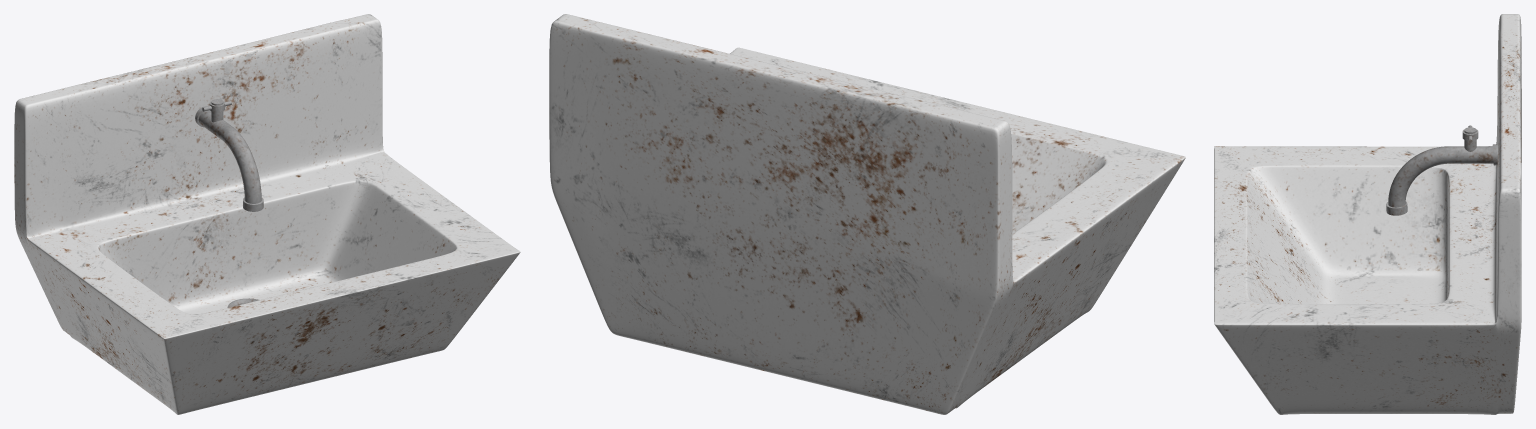
Rendered from wash_basin.fbx.
The picture shows the model from 3 angles, left to right: view 1: azimuth 30°, elevation 25°; view 2: azimuth 150°, elevation 25°; view 3: azimuth 270°, elevation 25°; orthographic projection. The views are drawn at different scales.
Parts seen in each view (by area): view 1: Умывальник; view 2: Умывальник; view 3: Умывальник.
Boxes of the visible parts, left/top/right/bottom form: Умывальник: left=14, top=14, right=520, bottom=414; Умывальник: left=549, top=14, right=1185, bottom=414; Умывальник: left=1214, top=14, right=1521, bottom=414.
Size of the model in its own units: 283 by 182 by 205.
Materials: 1 (1 with a texture image).
